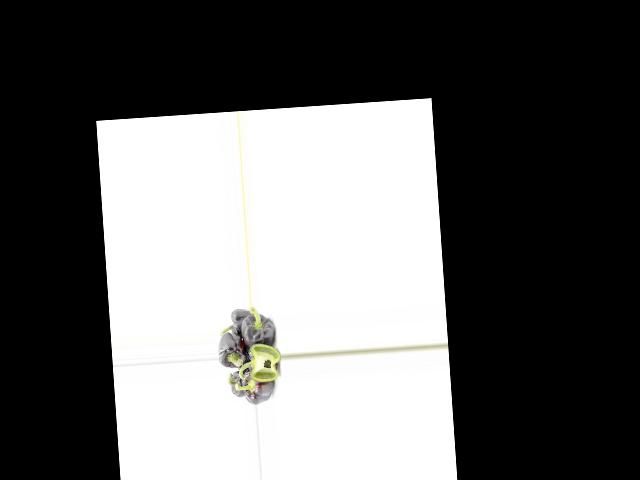bell_pepper: (241, 363, 273, 404)
